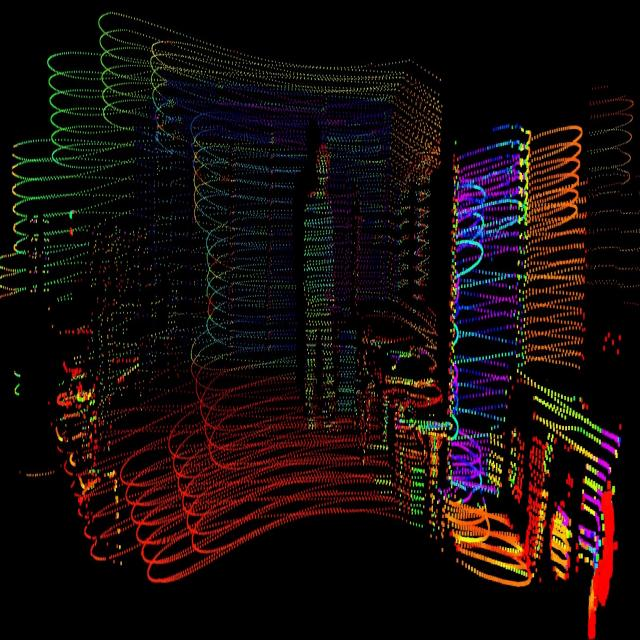human: (297, 135, 345, 436)
